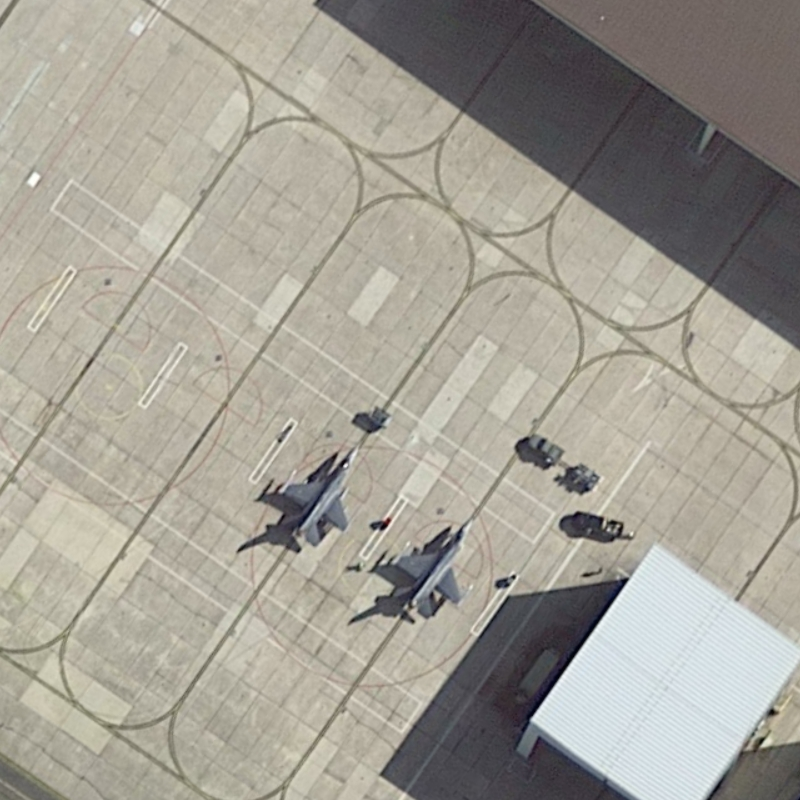A5: (378, 514, 478, 630), (272, 440, 366, 551)
